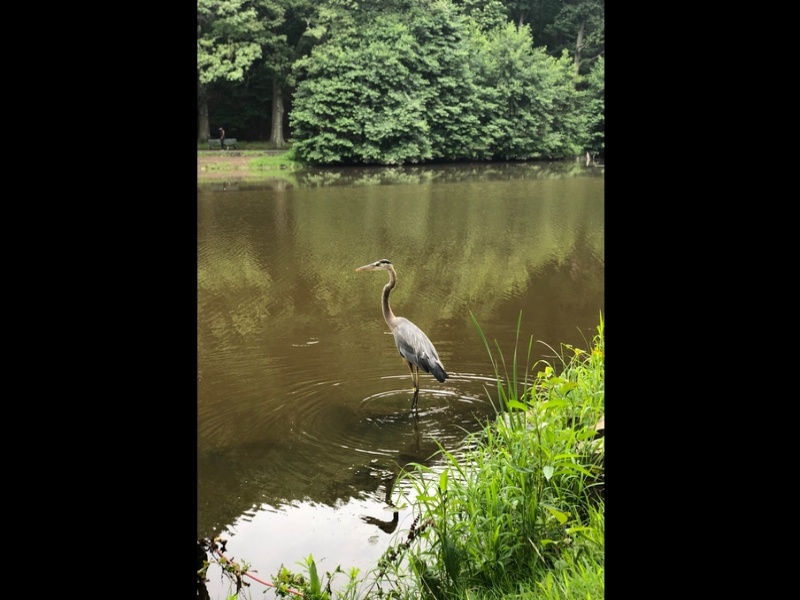heron: (354, 256, 452, 393)
